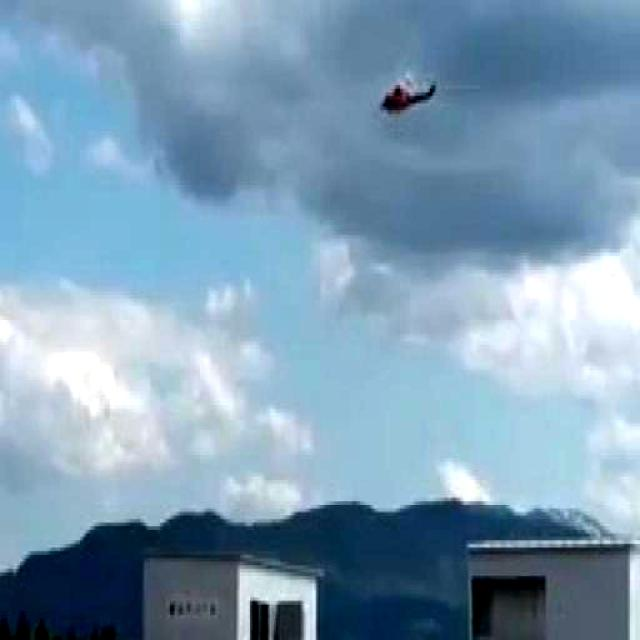drone: (374, 66, 446, 128)
